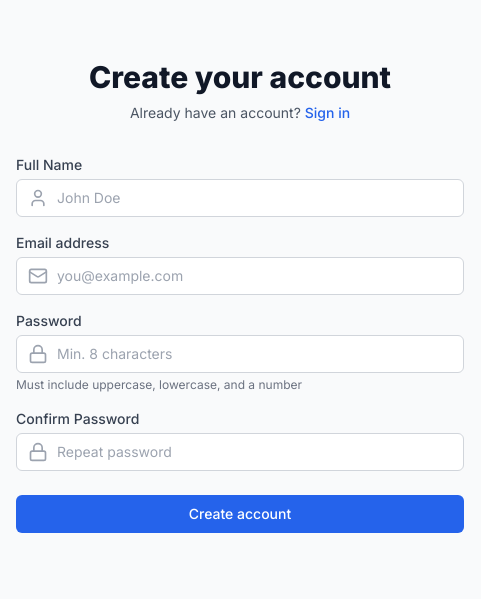
Test case: RegisterPage › Password validation › rejects password without uppercase letter
This screenshot has width=481, height=599.
Type "test@example.com" into the field labelled "Email address" at (240, 276), box [16,257,464,295]
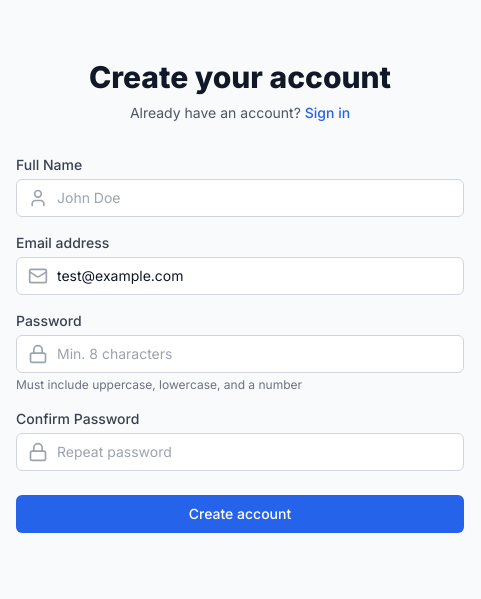
Type "lowercase123" into the password field labelled "Password" at (240, 354), box [16,335,464,373]
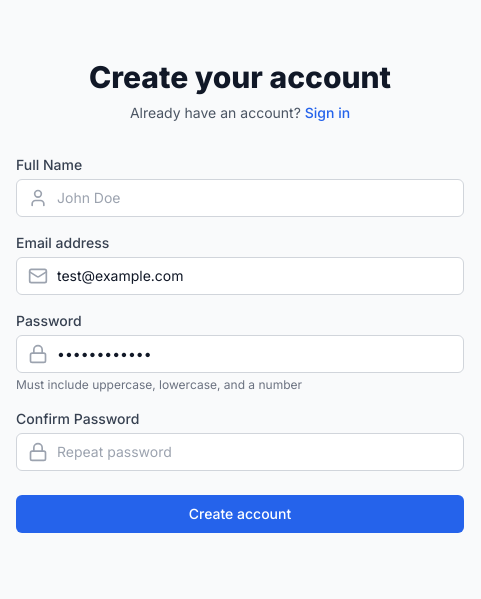
Type "lowercase123" into the password field labelled "Confirm Password" at (240, 452), box [16,433,464,471]
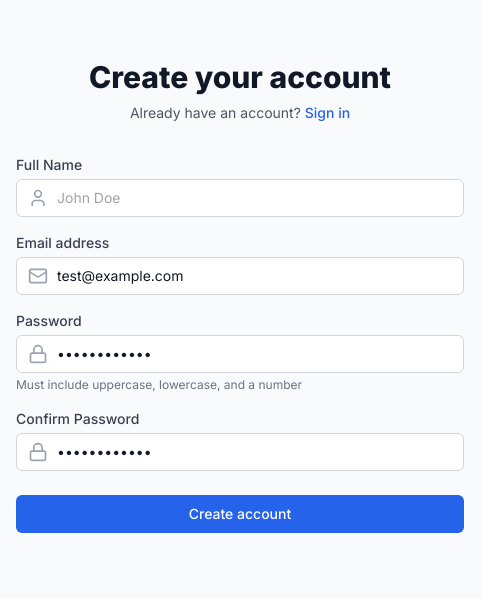
Submit the form from the button "Create account", box [16,495,464,533]
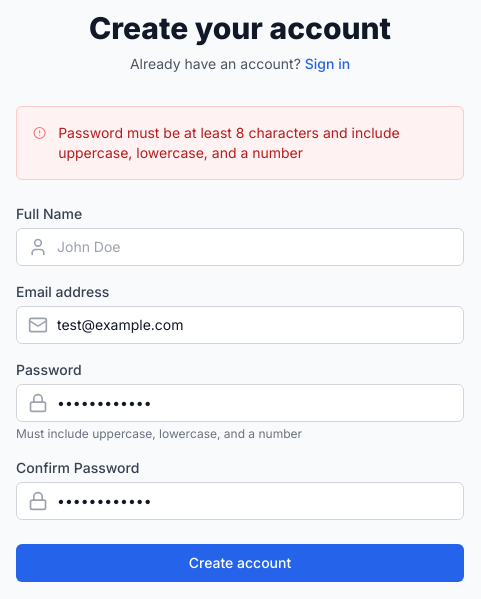
Now the text "Password must be at least 8 characters" is shown, box [58,124,400,161]
